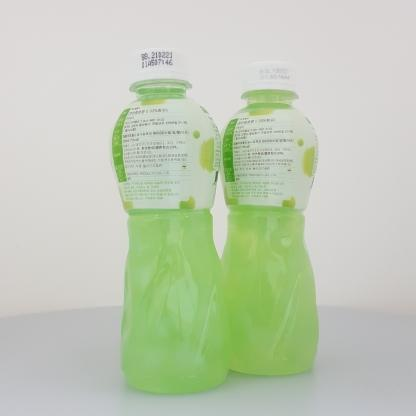-----------: (109, 47, 232, 393), (216, 61, 319, 376)
